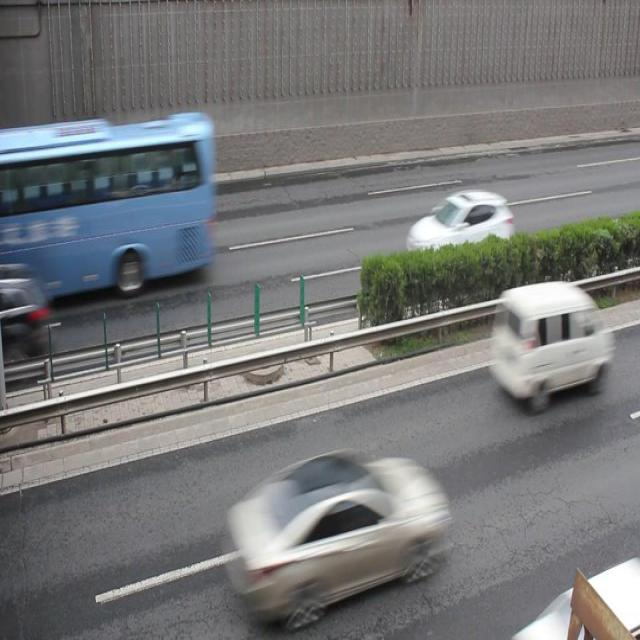car: (225, 448, 445, 631), (404, 186, 512, 279)
truck: (488, 280, 610, 404)
van: (1, 118, 213, 298)
